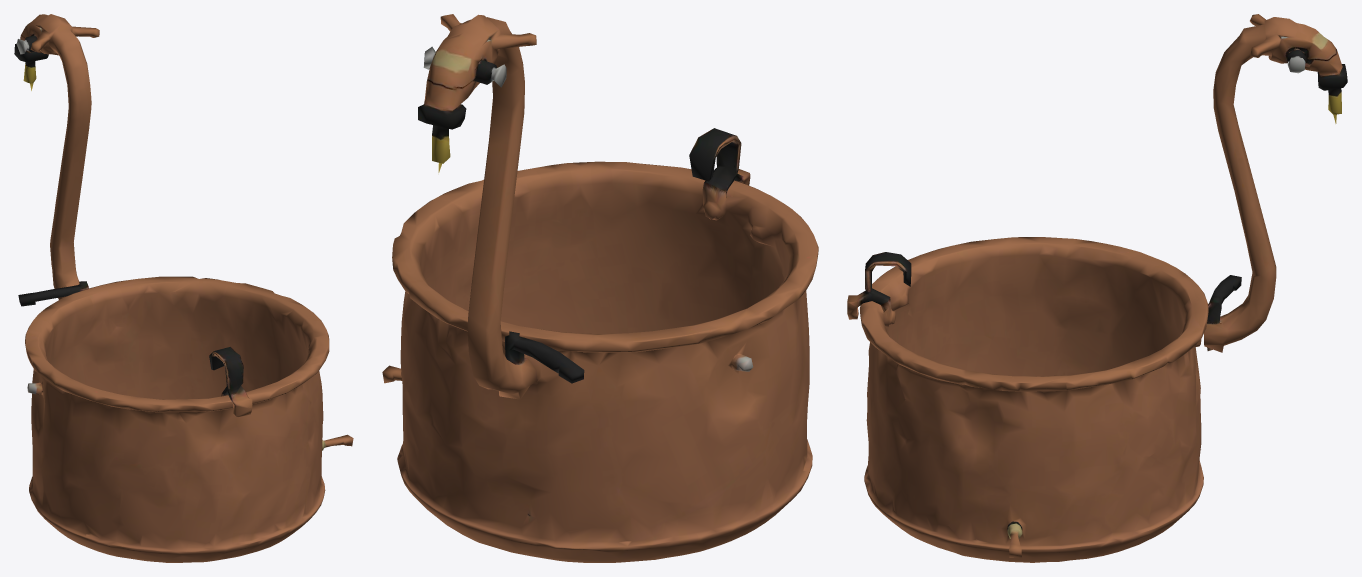
Rendered from pot-still.glb.
3 views of the same model, side by side, from view 1: azimuth 30°, elevation 25°; view 2: azimuth 150°, elevation 25°; view 3: azimuth 270°, elevation 25° (orthographic). The views are drawn at different scales.
Parts seen in each view (by area): view 1: tripo_node_36cfd10b-5025-4d53-91a8-bd147f7a7c84; view 2: tripo_node_36cfd10b-5025-4d53-91a8-bd147f7a7c84; view 3: tripo_node_36cfd10b-5025-4d53-91a8-bd147f7a7c84.
Boxes of the visible parts, x1,y1,x2,y2 form: tripo_node_36cfd10b-5025-4d53-91a8-bd147f7a7c84: (14,14,353,562); tripo_node_36cfd10b-5025-4d53-91a8-bd147f7a7c84: (382,14,818,562); tripo_node_36cfd10b-5025-4d53-91a8-bd147f7a7c84: (847,14,1347,562).
Bounding box in the file's own units: 0.7378 × 1 × 0.9457.
Materials: 1 (1 with a texture image).
